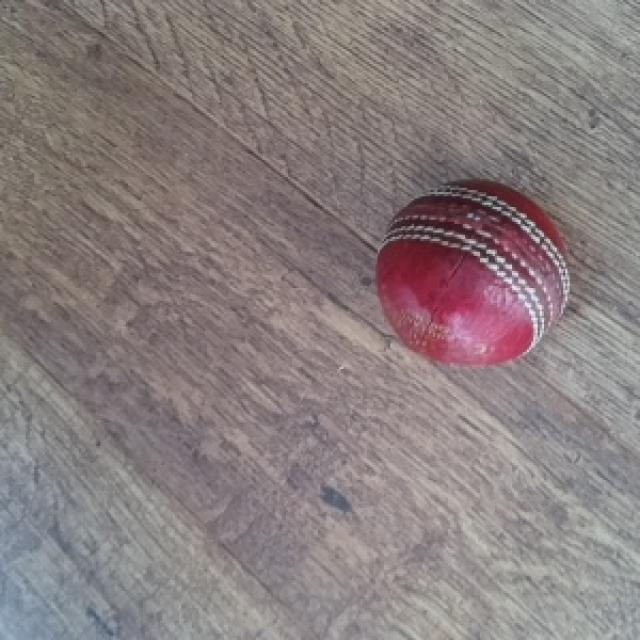ball: (375, 181, 572, 371)
